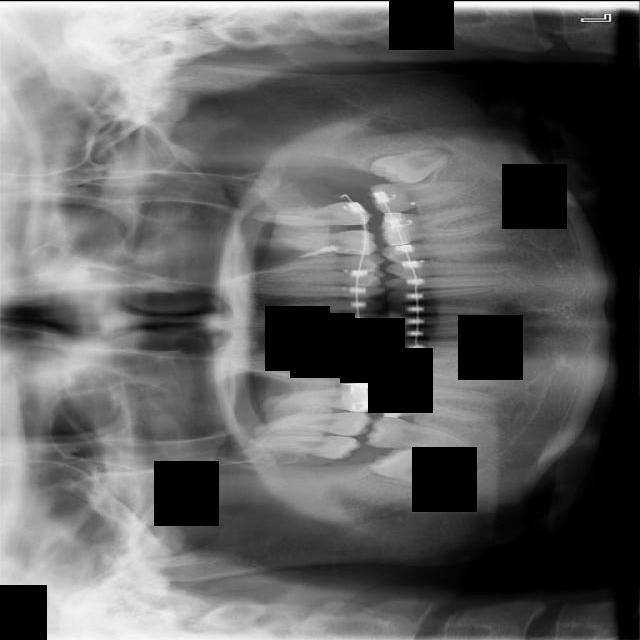3M ESPE Implant: (233, 433, 362, 459)
73: (572, 68, 582, 72)
BioHorizons Implant: (248, 199, 373, 227)
Biomet 3i Implant: (366, 141, 457, 191)
Blue Sky Bio Implant: (367, 176, 489, 214)
Caries: (250, 410, 375, 440)
Implant: (365, 413, 478, 456)
Keystone Dental Implant: (368, 436, 454, 494)
